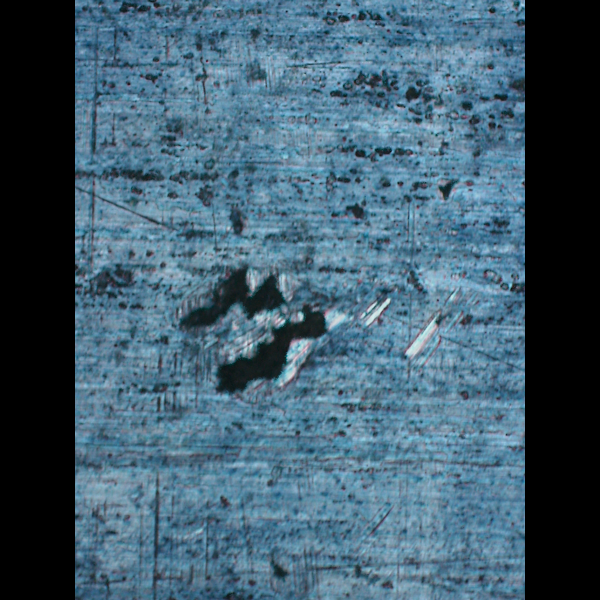d: (181, 251, 408, 403)
